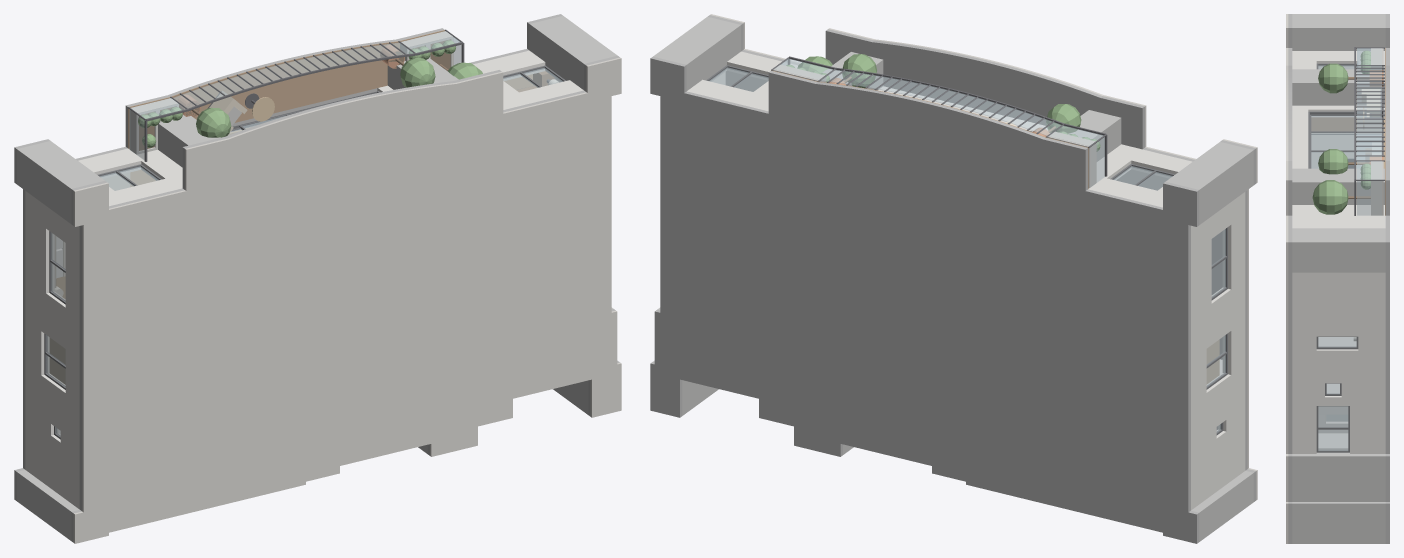
The model's file is DexinTaiji_B_3D.glb.
3 renders of one model, left to right at view 1: azimuth 30°, elevation 25°; view 2: azimuth 150°, elevation 25°; view 3: azimuth 270°, elevation 25°, orthographic. The views are drawn at different scales.
Visible parts, largest first — view 1: CLNG|172|上層樓板 (版底+3,270／上層FL+3,500)|slab_finish, WALL|3|外牆 EW1|wall_ext, FLOR|61|地坪-景觀陽台|floor_deck, RAIL|83|景觀陽台玻璃欄杆|glass, COLS|33|結構柱 C1|column, COLS|36|結構柱 C4|column, CLNG|172|上層樓板 (版底+3,270／上層FL+3,500)|slab, FLOR|44|本層結構樓板|slab, WALL|0|外牆 EN1|wall_ext, RAIL|83|景觀陽台玻璃欄杆|metal_dark, WALL|2|外牆 EN3|wall_ext, COLS|37|結構柱 C5|column (+8 smaller); view 2: FLOR|44|本層結構樓板|slab, CLNG|172|上層樓板 (版底+3,270／上層FL+3,500)|slab, WALL|3|外牆 EW1|wall_ext, RAIL|83|景觀陽台玻璃欄杆|glass, COLS|33|結構柱 C1|column, COLS|36|結構柱 C4|column, WALL|0|外牆 EN1|wall_ext, RAIL|83|景觀陽台玻璃欄杆|metal_dark, WALL|2|外牆 EN3|wall_ext, COLS|37|結構柱 C5|column, CLNG|172|上層樓板 (版底+3,270／上層FL+3,500)|slab_finish, COLS|34|結構柱 C2|column (+7 smaller); view 3: WALL|4|外牆 EE1|wall_ext, COLS|41|結構柱 C9|column, COLS|36|結構柱 C4|column, RAIL|83|景觀陽台玻璃欄杆|glass, COLS|40|結構柱 C8|column, COLS|33|結構柱 C1|column, FLOR|44|本層結構樓板|slab, CLNG|172|上層樓板 (版底+3,270／上層FL+3,500)|slab, GLAZ|72|D12 客廳落地拉門|glass, COLS|34|結構柱 C2|column, RAIL|83|景觀陽台玻璃欄杆|metal_dark, WALL|2|外牆 EN3|wall_ext (+26 smaller).
Part boxes in pixels (box(x1,y1,x2,y2)): CLNG|172|上層樓板 (版底+3,270／上層FL+3,500)|slab_finish: box(73, 57, 621, 543); WALL|3|外牆 EW1|wall_ext: box(25, 191, 79, 509); FLOR|61|地坪-景觀陽台|floor_deck: box(128, 30, 444, 148); RAIL|83|景觀陽台玻璃欄杆|glass: box(130, 31, 461, 160); COLS|33|結構柱 C1|column: box(17, 141, 104, 223); COLS|36|結構柱 C4|column: box(529, 16, 617, 89); CLNG|172|上層樓板 (版底+3,270／上層FL+3,500)|slab: box(71, 55, 619, 542); FLOR|44|本層結構樓板|slab: box(14, 14, 562, 500); WALL|0|外牆 EN1|wall_ext: box(78, 148, 182, 206); RAIL|83|景觀陽台玻璃欄杆|metal_dark: box(128, 29, 464, 161); WALL|2|外牆 EN3|wall_ext: box(473, 50, 583, 109); COLS|37|結構柱 C5|column: box(17, 470, 79, 540); FLOR|44|本層結構樓板|slab: box(650, 56, 1199, 543); CLNG|172|上層樓板 (版底+3,270／上層FL+3,500)|slab: box(707, 15, 1256, 501); WALL|3|外牆 EW1|wall_ext: box(1191, 192, 1245, 510); RAIL|83|景觀陽台玻璃欄杆|glass: box(775, 58, 1104, 187); COLS|33|結構柱 C1|column: box(1166, 142, 1253, 224); COLS|36|結構柱 C4|column: box(653, 17, 740, 90); WALL|0|外牆 EN1|wall_ext: box(1088, 144, 1192, 207); RAIL|83|景觀陽台玻璃欄杆|metal_dark: box(771, 56, 1107, 176); WALL|2|外牆 EN3|wall_ext: box(687, 51, 797, 111); COLS|37|結構柱 C5|column: box(1191, 471, 1253, 541); CLNG|172|上層樓板 (版底+3,270／上層FL+3,500)|slab_finish: box(710, 14, 1257, 499); COLS|34|結構柱 C2|column: box(1068, 110, 1121, 161); WALL|4|外牆 EE1|wall_ext: box(1292, 272, 1385, 453); COLS|41|結構柱 C9|column: box(1292, 452, 1385, 501); COLS|36|結構柱 C4|column: box(1292, 228, 1385, 272); RAIL|83|景觀陽台玻璃欄杆|glass: box(1357, 48, 1381, 215); COLS|40|結構柱 C8|column: box(1292, 502, 1385, 543); COLS|33|結構柱 C1|column: box(1292, 14, 1385, 50); FLOR|44|本層結構樓板|slab: box(1385, 14, 1389, 543); CLNG|172|上層樓板 (版底+3,270／上層FL+3,500)|slab: box(1288, 14, 1292, 543); GLAZ|72|D12 客廳落地拉門|glass: box(1311, 115, 1381, 168); COLS|34|結構柱 C2|column: box(1292, 69, 1384, 105); RAIL|83|景觀陽台玻璃欄杆|metal_dark: box(1354, 47, 1384, 215); WALL|2|外牆 EN3|wall_ext: box(1292, 205, 1385, 228).
Size of the model in its own units: 19.4 by 12.73 by 3.73.
